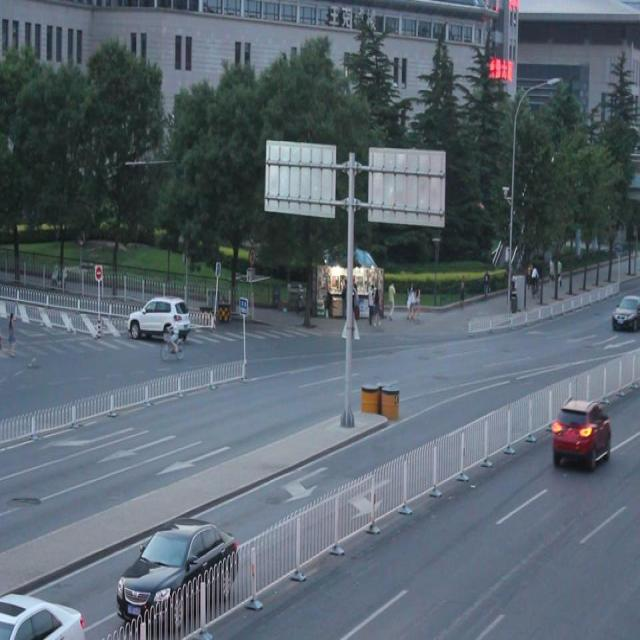car: (116, 514, 238, 618), (1, 582, 85, 640), (552, 395, 612, 468), (128, 294, 190, 342), (610, 291, 640, 331)
